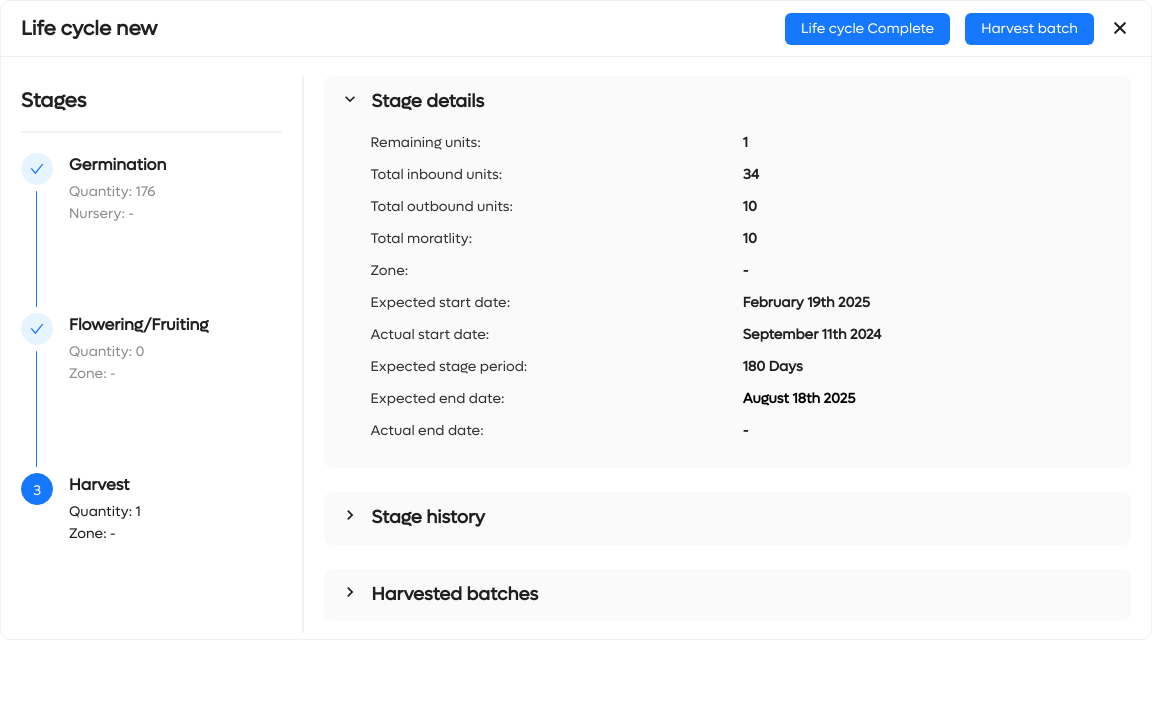
Add Update lifecycle page › Harvest crop process loading
Click the button "Harvest batch" at coordinates (1030, 28), box [965,12,1094,44]
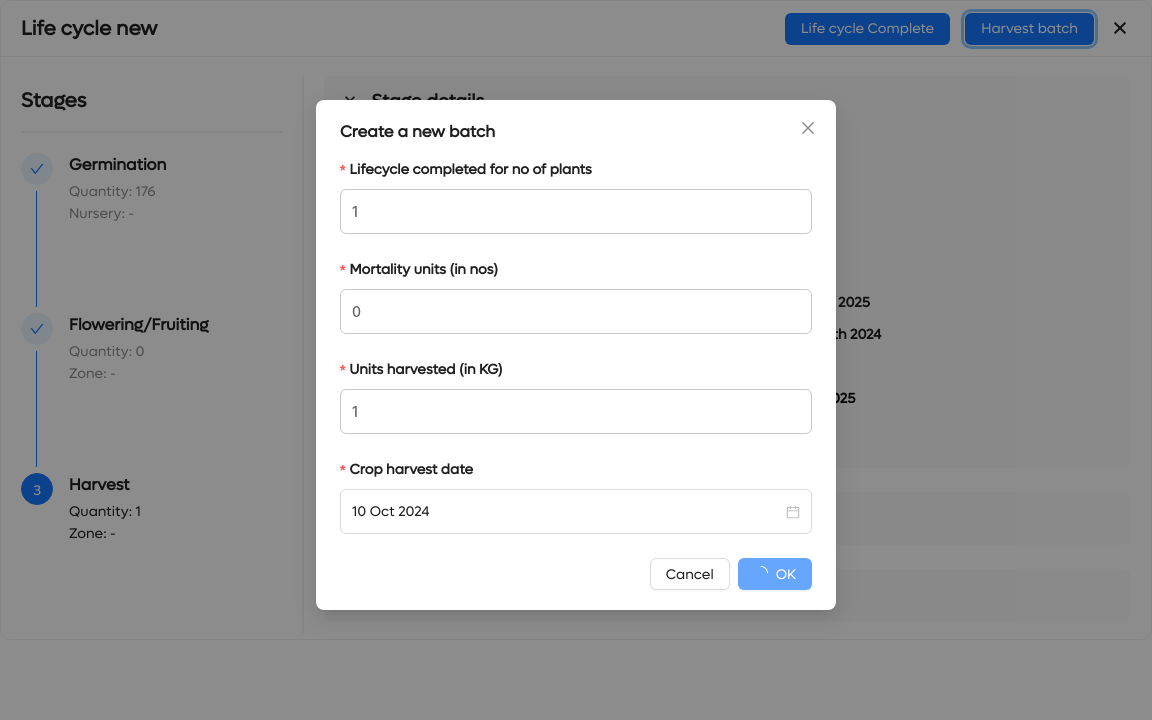
Now the text "Create a new batch" is shown, box [340,121,495,142]
Now the button named "loading OK" is shown, box [738,558,812,590]
